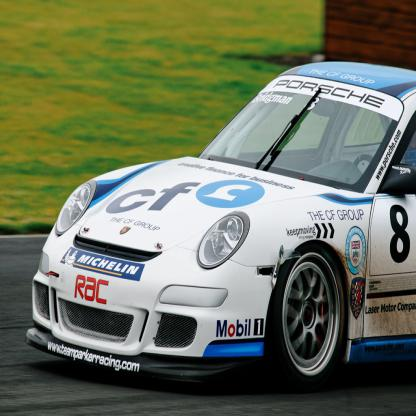Car: (25, 62, 415, 393)
